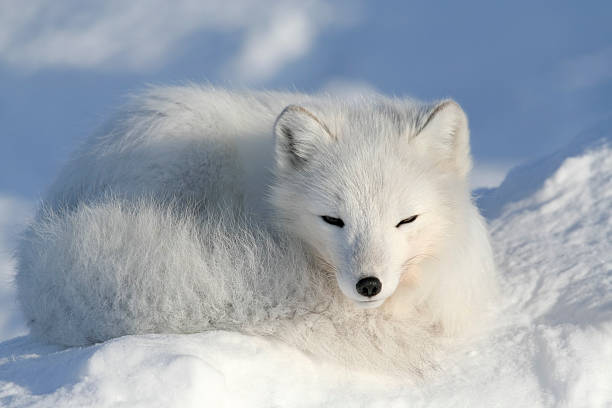arcticfox: (286, 136, 429, 322)
